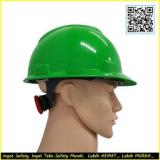Helmet: (23, 24, 137, 86)
